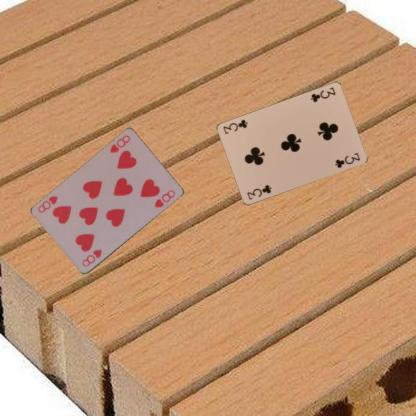3c: (244, 182, 273, 201), (308, 85, 337, 104)
8h: (78, 247, 104, 269), (107, 132, 132, 154)
